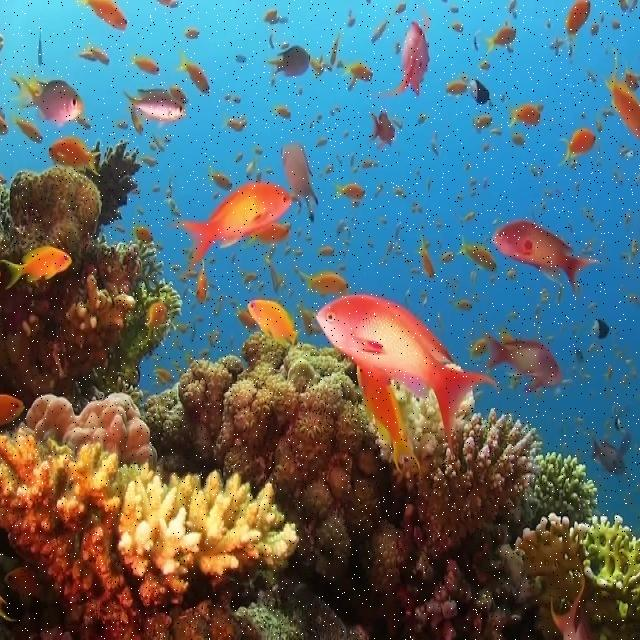fish: (316, 293, 500, 451), (177, 183, 290, 267), (493, 221, 605, 292), (357, 361, 420, 470), (485, 336, 559, 388), (375, 25, 429, 95), (604, 51, 639, 137), (18, 77, 82, 124), (281, 142, 319, 219), (5, 245, 70, 289), (247, 301, 301, 347), (48, 136, 101, 174), (128, 93, 183, 123), (456, 235, 497, 269), (267, 46, 310, 78), (591, 436, 626, 475), (559, 128, 596, 164), (81, 0, 127, 27), (301, 271, 349, 295), (178, 57, 208, 94), (369, 107, 395, 148), (137, 84, 189, 102), (251, 222, 290, 244), (266, 251, 287, 290), (567, 0, 590, 34), (1, 394, 25, 424), (510, 104, 540, 127), (486, 30, 515, 53), (15, 116, 41, 141), (232, 303, 258, 327), (421, 240, 435, 278), (470, 81, 491, 105), (335, 182, 365, 198), (371, 17, 389, 42), (264, 7, 289, 24), (197, 262, 207, 304), (345, 64, 373, 79), (89, 45, 110, 65), (591, 320, 611, 341), (209, 170, 231, 188), (134, 57, 157, 74), (311, 57, 329, 78), (444, 78, 468, 93), (129, 107, 143, 132), (225, 117, 247, 132), (135, 225, 154, 242), (470, 341, 489, 358), (474, 113, 492, 128), (79, 50, 100, 61), (332, 34, 339, 66), (274, 105, 291, 118), (185, 26, 199, 41), (156, 368, 170, 381), (0, 113, 8, 134), (319, 246, 335, 256), (245, 160, 254, 177), (456, 300, 471, 310), (38, 33, 42, 64), (513, 135, 525, 144), (443, 251, 455, 260), (141, 158, 155, 165), (397, 5, 407, 14), (454, 25, 463, 32)
reefs: (136, 330, 639, 639), (0, 425, 298, 626), (1, 140, 182, 411), (27, 392, 157, 468)
